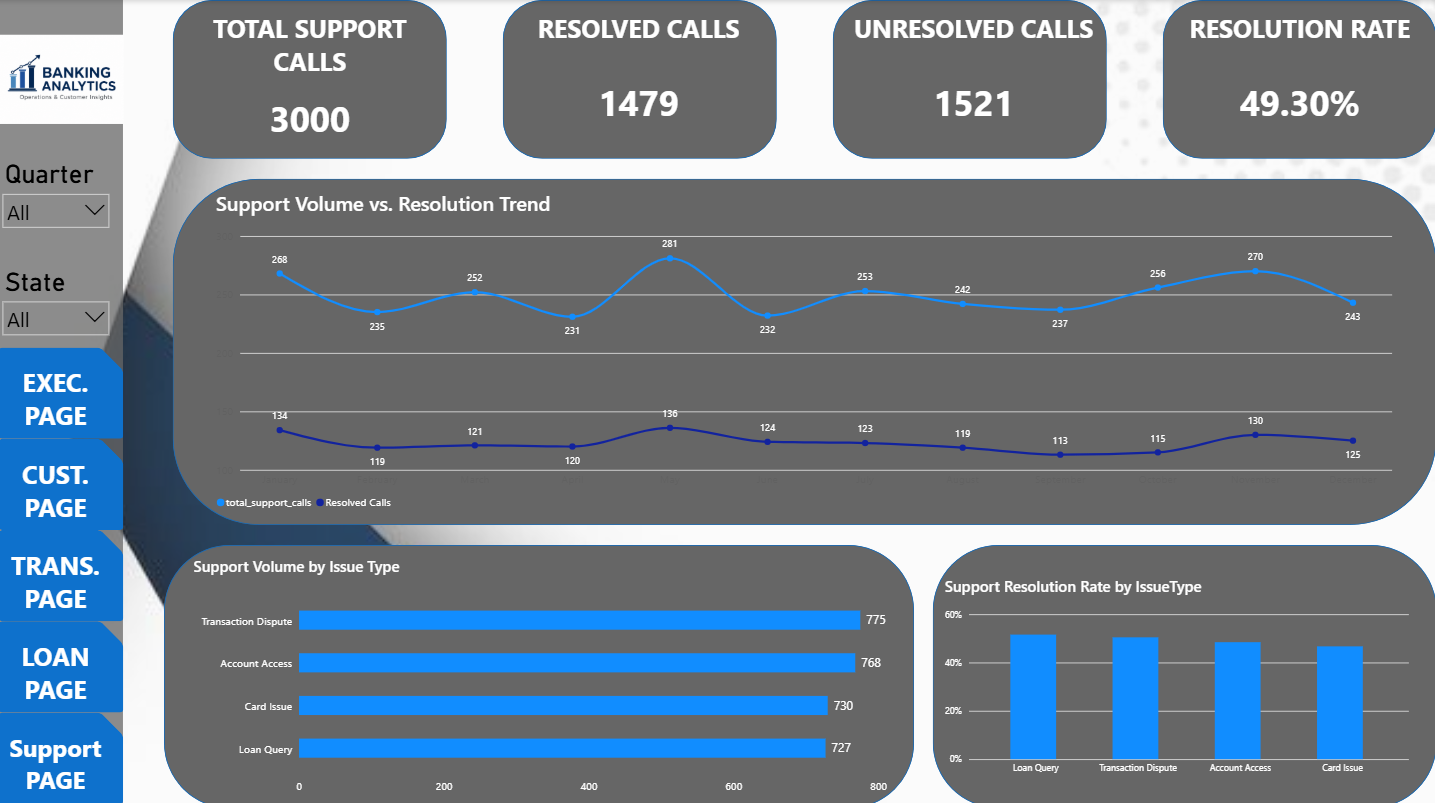

The page's visual inventory and layout, read from the dashboard file:
{"tool":"powerbi","page":{"name":"CUSTOMER SUPPORT","canvas":[1920,1080],"ordinal":4},"visuals":[{"type":"shape","box":[1113.3,0,366,212],"z":0},{"type":"shape","box":[232,0,366,212],"z":1000},{"type":"shape","box":[232.1,238.8,1688.1,462.5],"z":2000},{"type":"shape","box":[220,728,1002,352],"z":3000},{"type":"shape","box":[672.7,0,366,212],"z":5000},{"type":"card","title":"TOTAL SUPPORT CALLS","fields":{"Values":["Key_Measures.total_support_calls"]},"box":[232,0,366.2,212.5],"z":6000},{"type":"shape","box":[1554,0,366,212],"z":7000},{"type":"shape","box":[0,0,165.7,1080],"z":8000},{"type":"slicer","fields":{"Values":["Accounts_Sheet.CreatedDate.Variation.Date Hierarchy.Quarter"]},"box":[0,212,152,184],"z":9000},{"type":"slicer","fields":{"Values":["customers_cleaned.State"]},"box":[0,356,152,122],"z":10000},{"type":"card","title":"RESOLVED CALLS","fields":{"Values":["Key_Measures.Resolved Calls"]},"box":[672,0,366.2,212.5],"z":11000},{"type":"lineChart","title":"Support Volume vs. Resolution Trend","fields":{"Category":["DATE.Date.Variation.Date Hierarchy.Month"],"Y":["Key_Measures.total_support_calls","Key_Measures.Resolved Calls"]},"box":[273.8,238.8,1603,462.5],"z":12000},{"type":"clusteredBarChart","title":"Support Volume by Issue Type","fields":{"Category":["SupportCalls_Sheet.IssueType"],"Y":["Key_Measures.total_support_calls"]},"box":[243.8,727.5,968.8,352.5],"z":13000},{"type":"image","box":[0,0,166,212],"z":14000},{"type":"shape","box":[1246.7,728.3,673.3,351.7],"z":16000},{"type":"clusteredColumnChart","fields":{"Category":["SupportCalls_Sheet.IssueType"],"Y":["Key_Measures.Support Resolution Rate"]},"box":[1246.7,754.4,652.2,300],"z":17000},{"type":"actionButton","box":[0,464,166,122],"z":18000},{"type":"actionButton","box":[0,586,166,122],"z":19000},{"type":"actionButton","box":[0,708,166,122],"z":20000},{"type":"card","title":"RESOLUTION RATE","fields":{"Values":["Key_Measures.Support Resolution Rate"]},"box":[1554,0,366.2,212.5],"z":21000},{"type":"actionButton","box":[0,952,166,122],"z":22000},{"type":"actionButton","box":[0,830,166,122],"z":23000},{"type":"card","title":"UNRESOLVED CALLS","fields":{"Values":["Key_Measures.Unresolved Calls"]},"box":[1118,0,366.2,212.5],"z":24000}]}

Visuals, with their boxes on the page's 1920x1080 design canvas (x1, y1, x2, y2). These are canvas units, not pixel positions in the 1435x803 screenshot, which may show the page scaled, cropped or inside an application window:
shape: select_region(1113, 0, 1479, 212)
shape: select_region(232, 0, 598, 212)
shape: select_region(232, 239, 1920, 701)
shape: select_region(220, 728, 1222, 1080)
shape: select_region(673, 0, 1039, 212)
"TOTAL SUPPORT CALLS" card: select_region(232, 0, 598, 212)
shape: select_region(1554, 0, 1920, 212)
shape: select_region(0, 0, 166, 1080)
slicer - Accounts_Sheet.CreatedDate.Variation.Date Hierarchy.Quarter: select_region(0, 212, 152, 396)
slicer - customers_cleaned.State: select_region(0, 356, 152, 478)
"RESOLVED CALLS" card: select_region(672, 0, 1038, 212)
"Support Volume vs. Resolution Trend" lineChart: select_region(274, 239, 1877, 701)
"Support Volume by Issue Type" clusteredBarChart: select_region(244, 728, 1213, 1080)
image: select_region(0, 0, 166, 212)
shape: select_region(1247, 728, 1920, 1080)
clusteredColumnChart - SupportCalls_Sheet.IssueType x Key_Measures.Support Resolution Rate: select_region(1247, 754, 1899, 1054)
actionButton: select_region(0, 464, 166, 586)
actionButton: select_region(0, 586, 166, 708)
actionButton: select_region(0, 708, 166, 830)
"RESOLUTION RATE" card: select_region(1554, 0, 1920, 212)
actionButton: select_region(0, 952, 166, 1074)
actionButton: select_region(0, 830, 166, 952)
"UNRESOLVED CALLS" card: select_region(1118, 0, 1484, 212)
